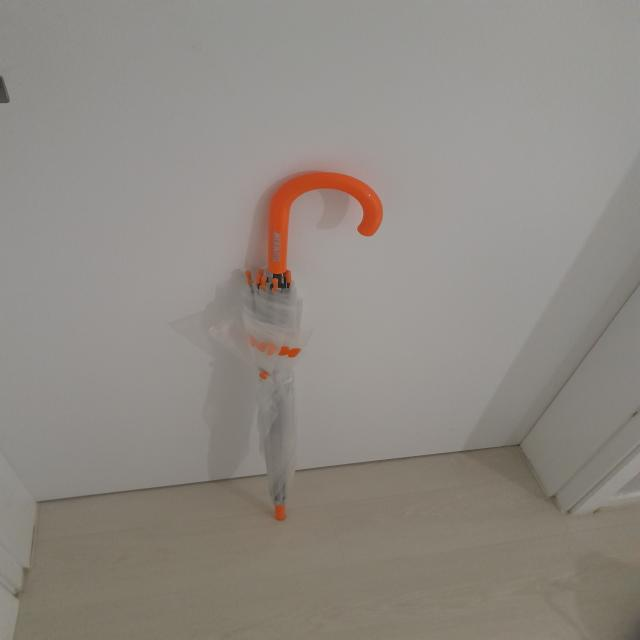umbrella: (217, 171, 386, 522)
